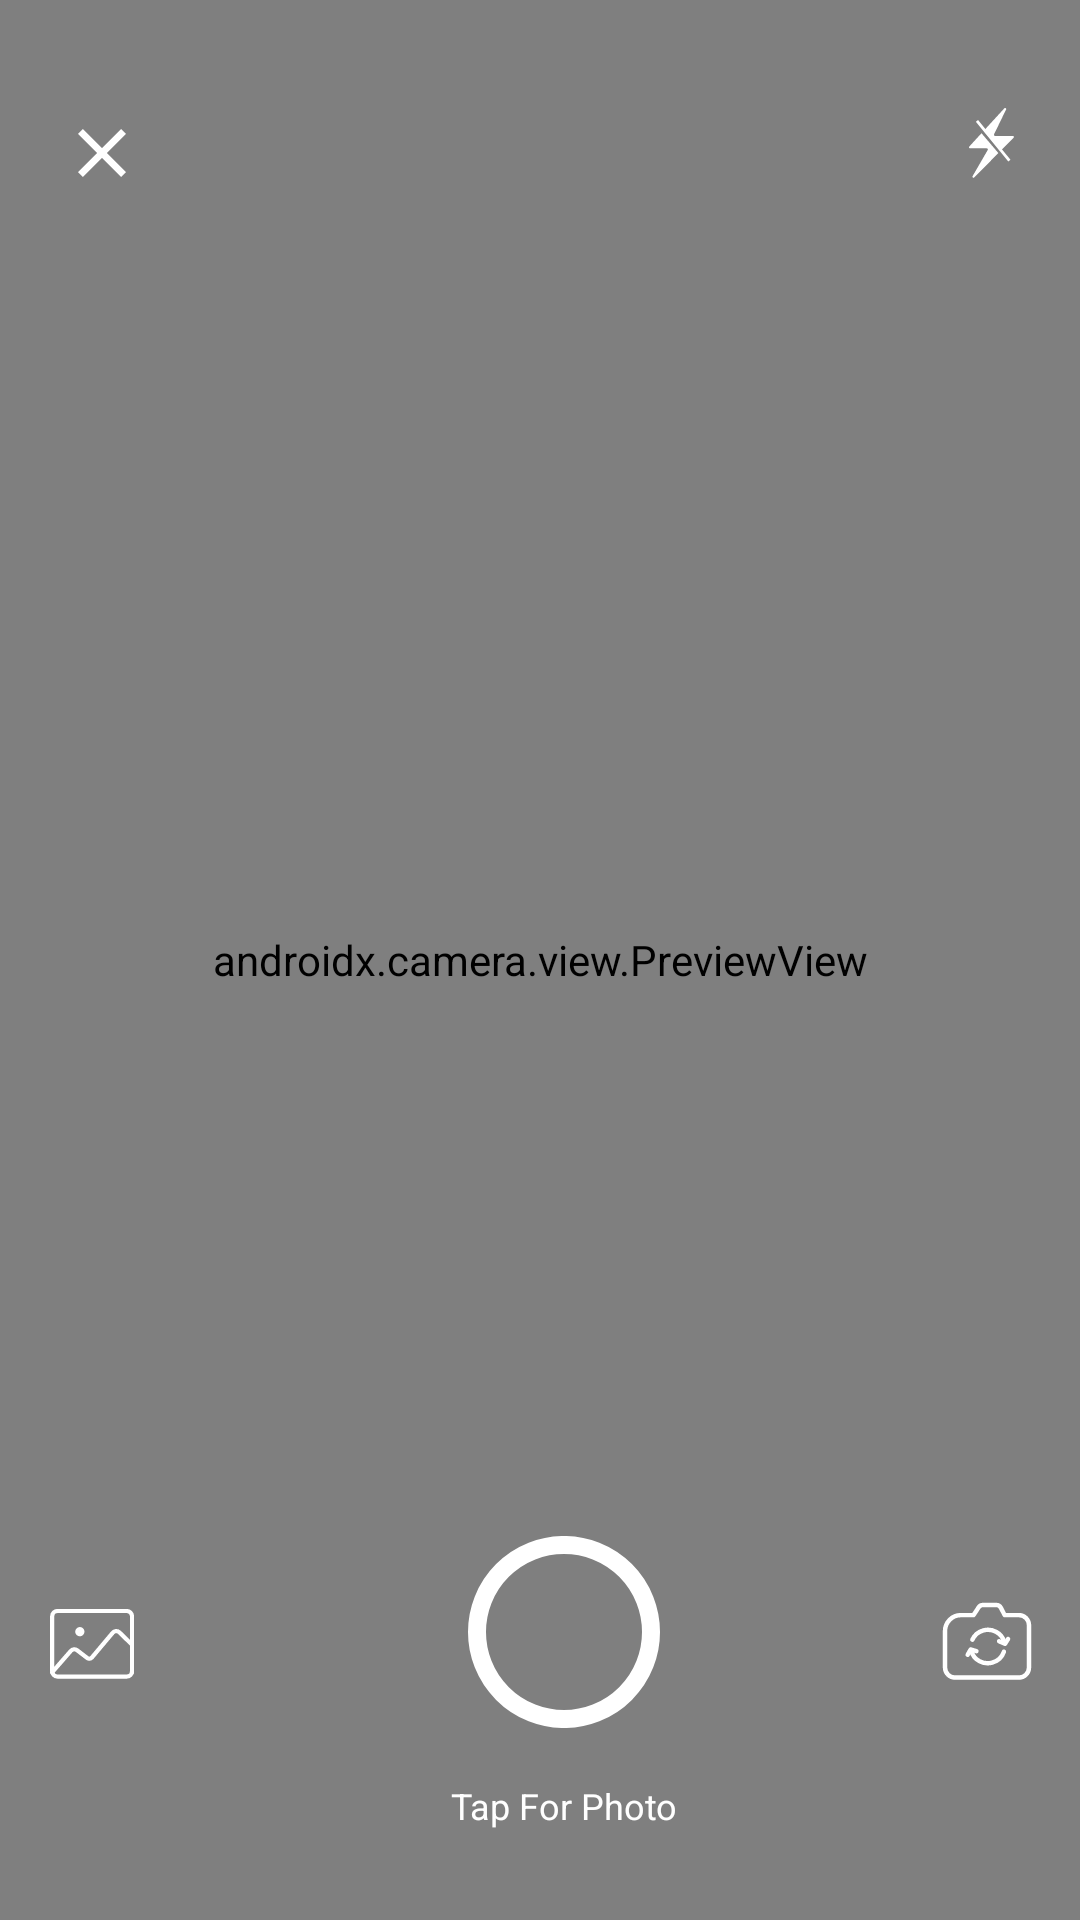

Named icons in this screenshot (1080px×1920px) and their centers, (x=x, y=y):
close: (x=102, y=153)
flash off: (x=991, y=143)
flip camera: (x=987, y=1641)
